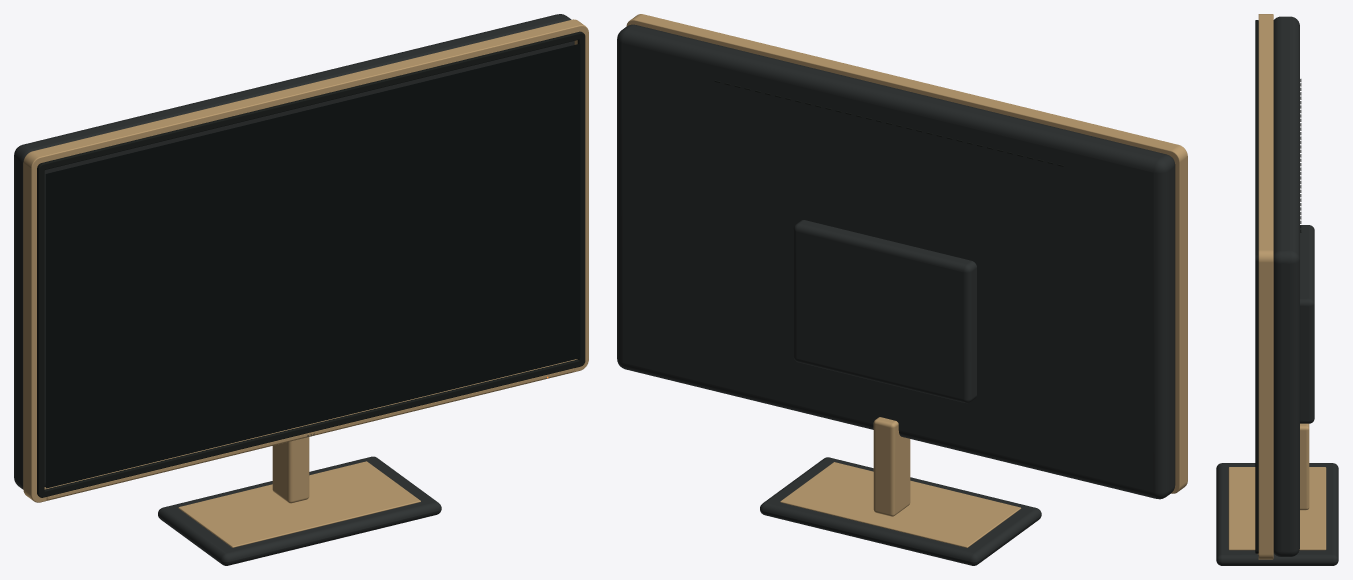
The model's file is impossible-cinema.glb.
3 renders of one model, left to right at view 1: azimuth 30°, elevation 25°; view 2: azimuth 150°, elevation 25°; view 3: azimuth 270°, elevation 25°, orthographic. The views are drawn at different scales.
Visible parts, largest first — view 1: Impossible_Screen, Impossible_ChampagneOuterFrame, Impossible_BlackInnerBezel, Impossible_RearShell, Impossible_BaseAccent, Impossible_LowProfileBase, Impossible_LowerChin, Impossible_CentralSpine; view 2: Impossible_RearShell, Impossible_RearElectronics, Impossible_ChampagneOuterFrame, Impossible_BaseAccent, Impossible_LowProfileBase, Impossible_CentralSpine; view 3: Impossible_RearShell, Impossible_ChampagneOuterFrame, Impossible_BaseAccent, Impossible_LowProfileBase, Impossible_RearElectronics, Impossible_BlackInnerBezel, Impossible_CentralSpine.
Boxes of the visible parts, left/top/right/bottom form: Impossible_Screen: left=45, top=43, right=580, bottom=488; Impossible_ChampagneOuterFrame: left=23, top=19, right=588, bottom=502; Impossible_BlackInnerBezel: left=37, top=31, right=585, bottom=497; Impossible_RearShell: left=14, top=14, right=574, bottom=489; Impossible_BaseAccent: left=178, top=461, right=420, bottom=547; Impossible_LowProfileBase: left=158, top=456, right=441, bottom=565; Impossible_LowerChin: left=46, top=368, right=574, bottom=500; Impossible_CentralSpine: left=272, top=437, right=309, bottom=503; Impossible_RearShell: left=617, top=24, right=1175, bottom=499; Impossible_RearElectronics: left=793, top=220, right=976, bottom=403; Impossible_ChampagneOuterFrame: left=626, top=14, right=1187, bottom=493; Impossible_BaseAccent: left=780, top=462, right=1021, bottom=547; Impossible_LowProfileBase: left=760, top=457, right=1041, bottom=565; Impossible_CentralSpine: left=873, top=417, right=910, bottom=516; Impossible_RearShell: left=1273, top=16, right=1299, bottom=556; Impossible_ChampagneOuterFrame: left=1258, top=14, right=1273, bottom=559; Impossible_BaseAccent: left=1228, top=467, right=1326, bottom=550; Impossible_LowProfileBase: left=1216, top=463, right=1338, bottom=565; Impossible_RearElectronics: left=1300, top=225, right=1314, bottom=423; Impossible_BlackInnerBezel: left=1255, top=20, right=1258, bottom=553; Impossible_CentralSpine: left=1300, top=423, right=1309, bottom=510.
Bounding box in the file's own units: 2.3 × 1.71 × 0.49.
